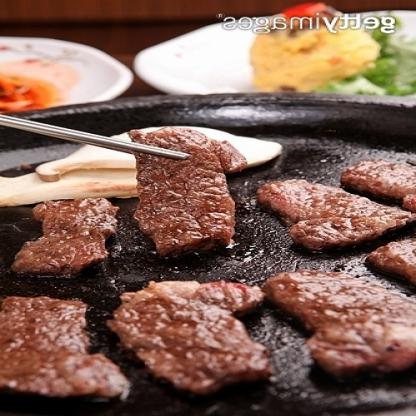Carne: (132, 275, 284, 391), (129, 126, 243, 259), (1, 289, 134, 401), (293, 262, 415, 376), (287, 166, 416, 257), (1, 194, 124, 279), (348, 149, 415, 206), (256, 160, 273, 162)
